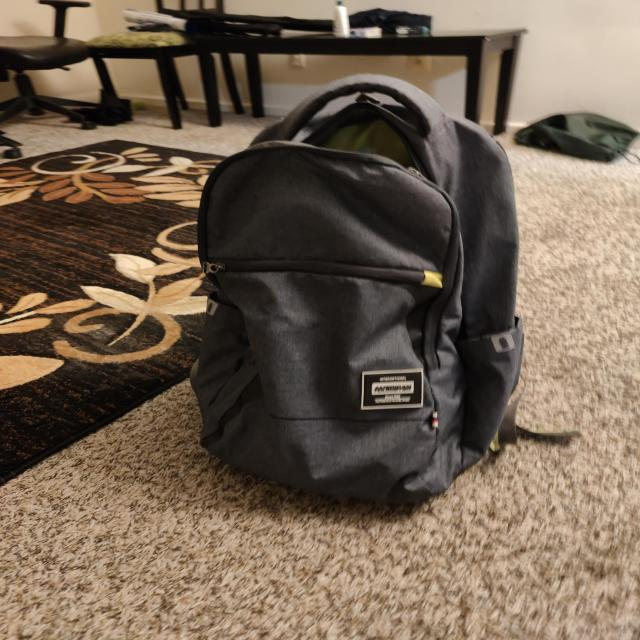bag: (204, 85, 536, 506)
